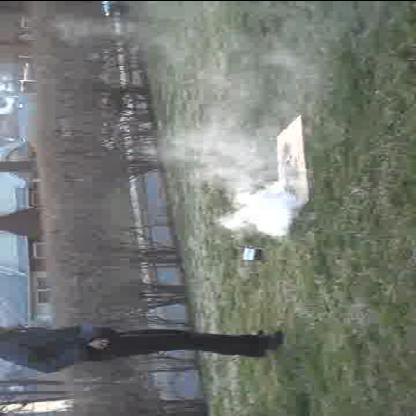Smoke: (192, 94, 292, 234)
